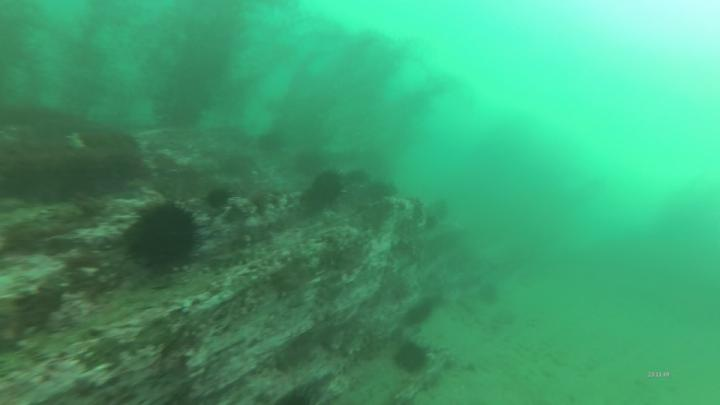echinus: (126, 196, 214, 278), (302, 164, 347, 212), (393, 337, 436, 379)
